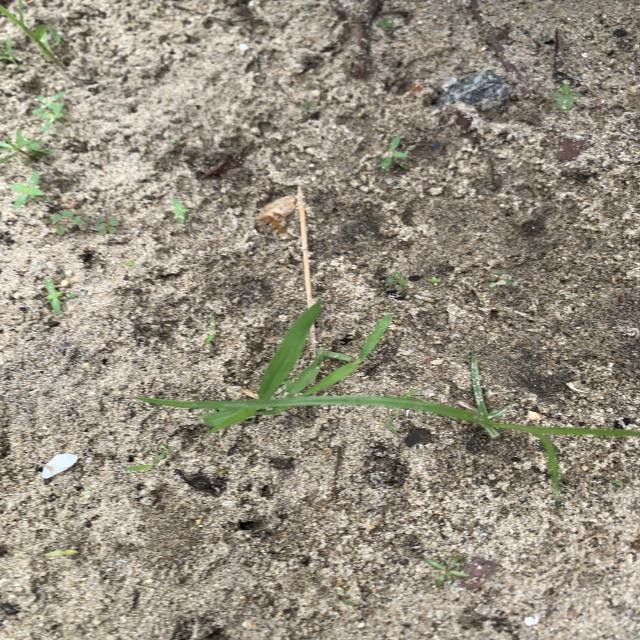weed: (247, 359, 640, 509), (202, 301, 320, 431), (305, 315, 392, 395), (1, 1, 62, 68), (0, 129, 52, 165), (50, 209, 117, 234), (425, 555, 468, 588), (10, 172, 46, 207), (122, 445, 169, 471), (33, 93, 65, 130), (44, 280, 77, 315), (380, 137, 407, 170), (552, 84, 580, 109), (171, 198, 189, 223), (488, 272, 513, 289), (386, 273, 407, 293), (1, 38, 17, 63), (203, 316, 216, 346), (46, 549, 77, 557), (427, 277, 441, 286)
